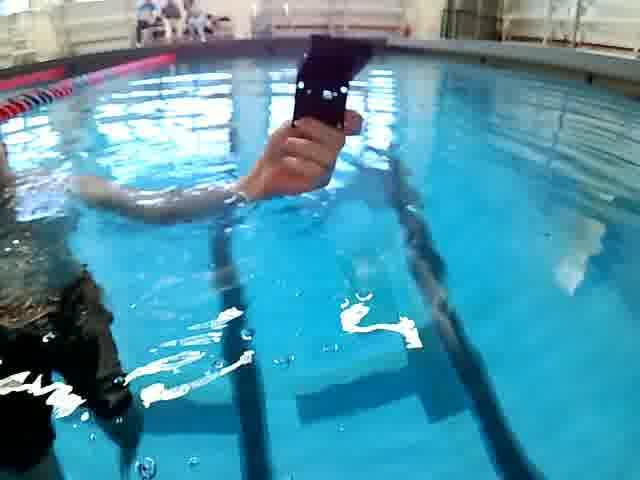CamMount: (290, 28, 380, 132)
